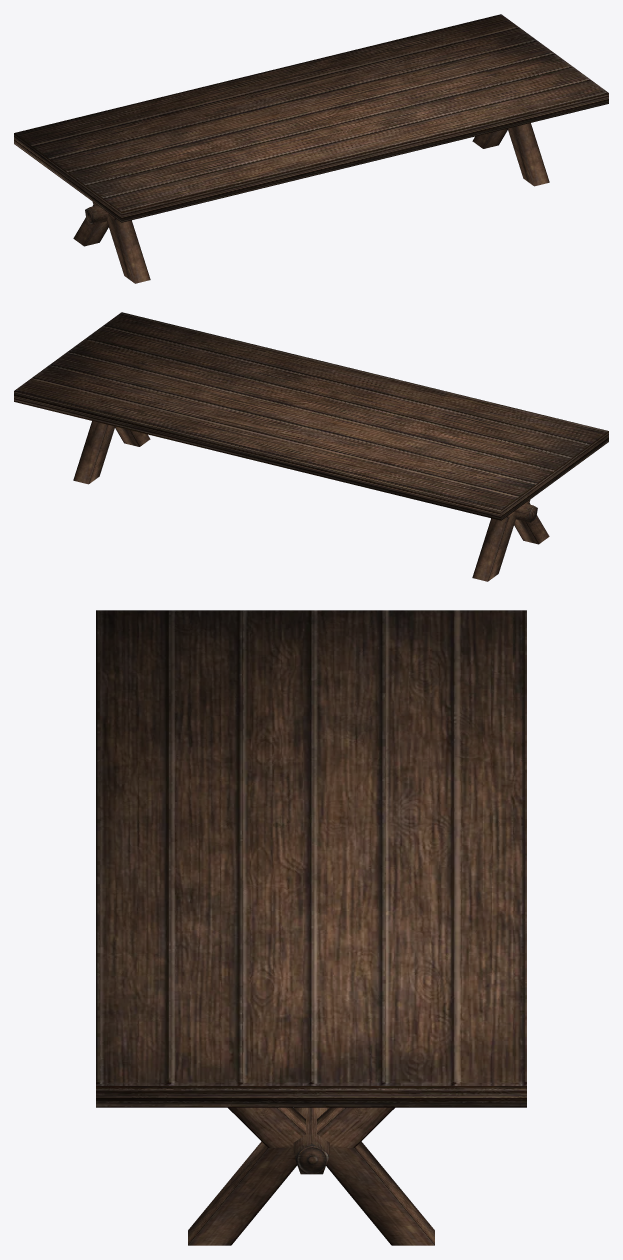
File: GS_LOB_TABLE_HEAVY_LONG_ORANGE_01_KOZA.glb
3 renders of one model, top to bottom at view 1: azimuth 30°, elevation 25°; view 2: azimuth 150°, elevation 25°; view 3: azimuth 270°, elevation 25°, orthographic. The views are drawn at different scales.
Parts seen in each view (by area): view 1: Mesh; view 2: Mesh; view 3: Mesh.
Part boxes in pixels (box(x1,y1,x2,y2)): Mesh: box(14, 14, 608, 283); Mesh: box(14, 312, 608, 581); Mesh: box(96, 610, 526, 1245).
Size of the model in its own units: 4.7 by 0.9001 by 1.8.
Materials: 3 (3 with a texture image).
